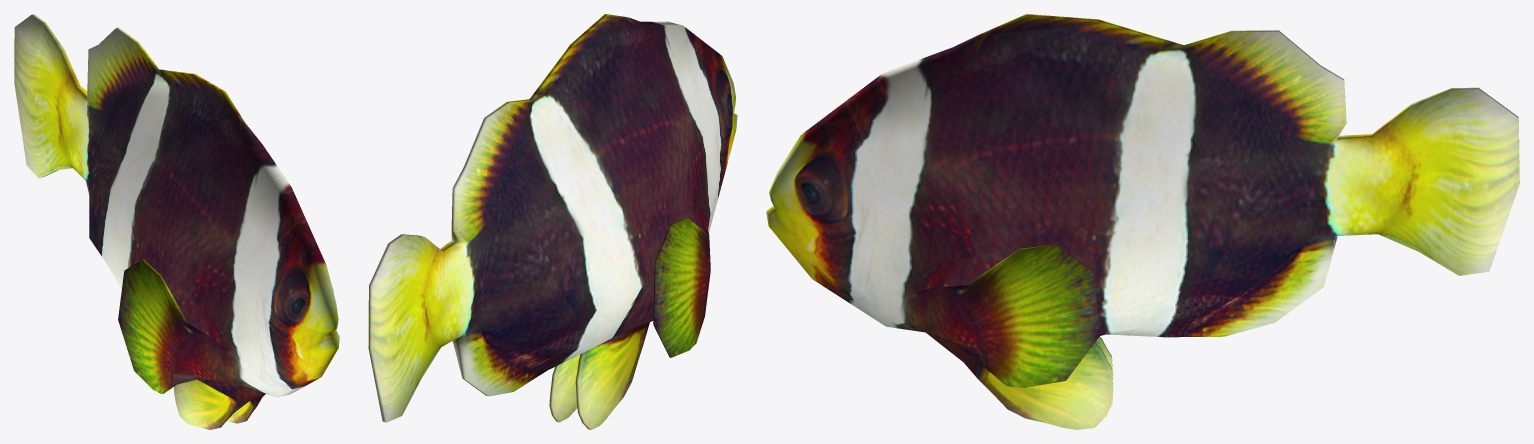
Rendered from Fish011.obj.
3 renders of one model, left to right at view 1: azimuth 30°, elevation 25°; view 2: azimuth 150°, elevation 25°; view 3: azimuth 270°, elevation 25°, orthographic. The views are drawn at different scales.
Visible parts, largest first — view 1: TropicalFish11:TropicalFish11; view 2: TropicalFish11:TropicalFish11; view 3: TropicalFish11:TropicalFish11.
Part boxes in pixels (x1,y1,x2,y2): TropicalFish11:TropicalFish11: [14, 14, 339, 429]; TropicalFish11:TropicalFish11: [368, 14, 737, 429]; TropicalFish11:TropicalFish11: [766, 14, 1519, 429].
Size of the model in its own units: 13.46 by 29.33 by 49.31.
